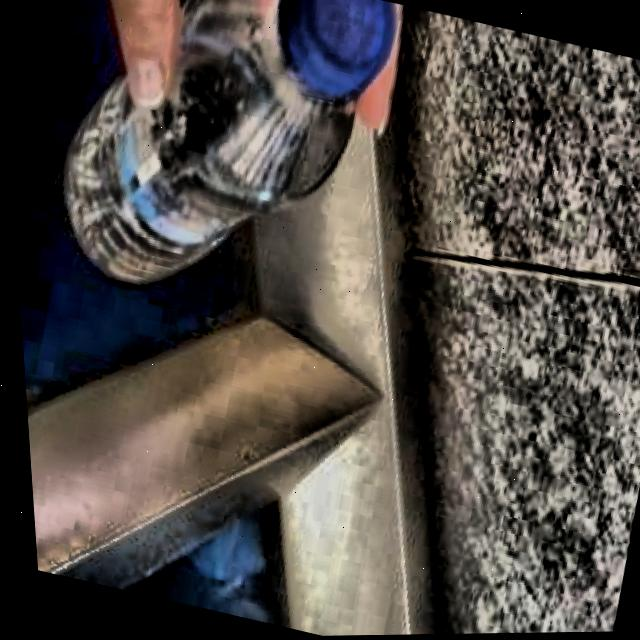plastic: (60, 0, 391, 284)
